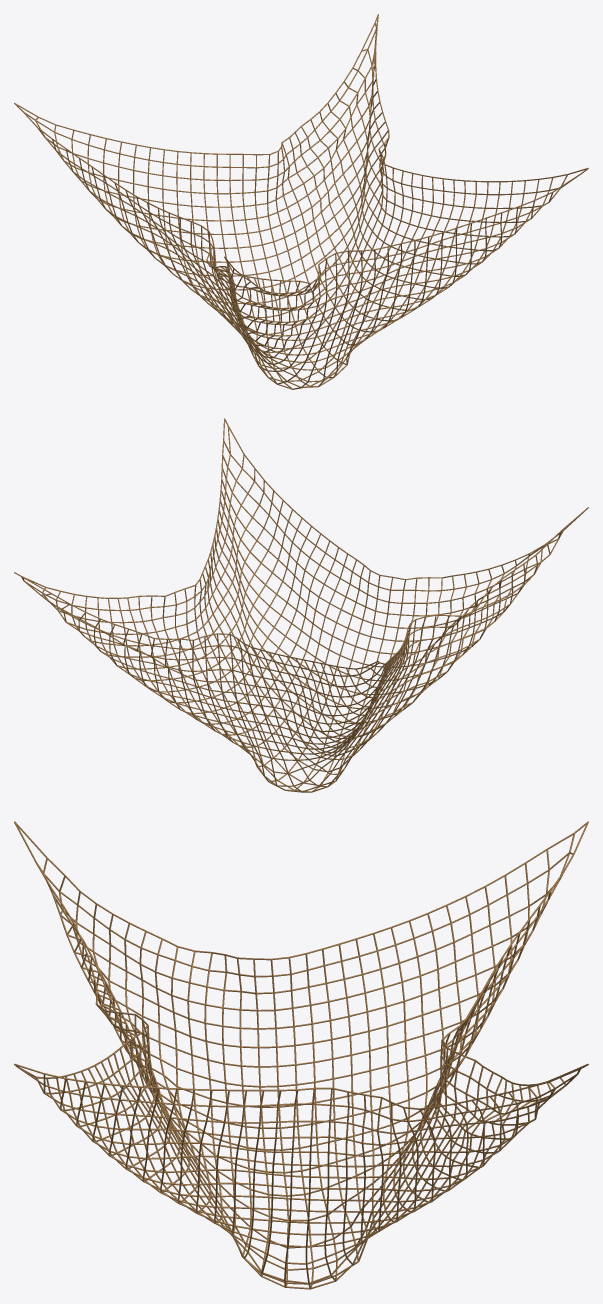
The model's file is orangeNet.fbx.
3 views of the same model, one above another, from view 1: azimuth 30°, elevation 25°; view 2: azimuth 150°, elevation 25°; view 3: azimuth 270°, elevation 25° (orthographic). The views are drawn at different scales.
Visible parts, largest first — view 1: 平面_3; view 2: 平面_3; view 3: 平面_3.
Part boxes in pixels (bbox=[...]): 平面_3: bbox=[14, 14, 588, 389]; 平面_3: bbox=[14, 418, 588, 792]; 平面_3: bbox=[14, 821, 588, 1289].
Bounding box in the file's own units: 301 × 197 × 301.
